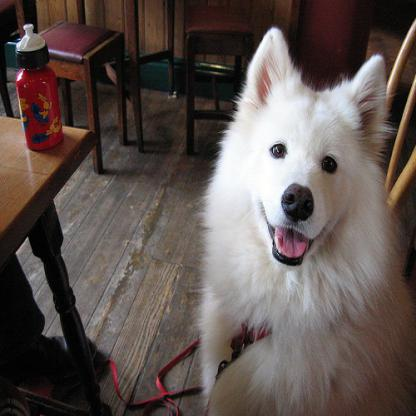bottle: (15, 22, 65, 151)
diningtable: (0, 113, 109, 383)
dog: (198, 25, 414, 415)
